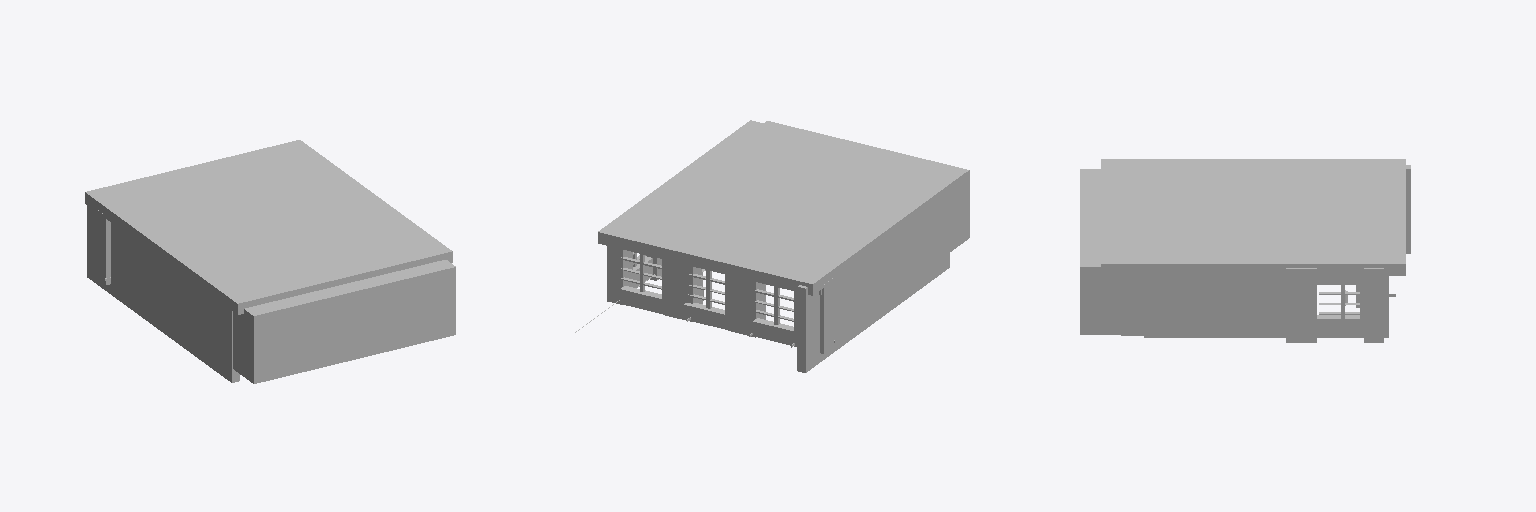
File: room.obj
3 renders of one model, left to right at view 1: azimuth 30°, elevation 25°; view 2: azimuth 150°, elevation 25°; view 3: azimuth 270°, elevation 25°, orthographic.
Visible parts, largest first — view 1: room.obj; view 2: room.obj; view 3: room.obj.
Boxes of the visible parts, x1,y1,x2,y2 form: room.obj: [85, 140, 455, 383]; room.obj: [575, 120, 969, 372]; room.obj: [1080, 159, 1410, 342].
Bounding box in the file's own units: 192 × 73.88 × 303.